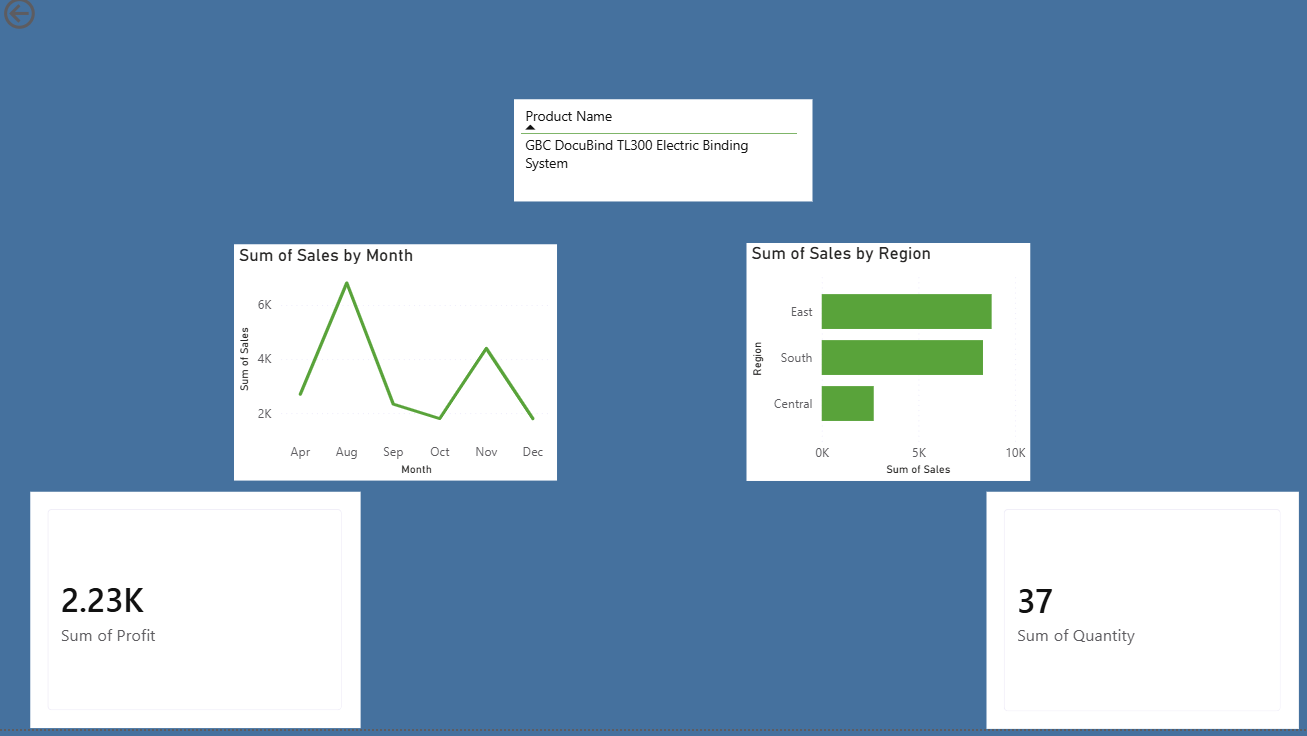

Layout of this report page (visuals, bound fields, positions):
{"tool":"powerbi","page":{"name":"Product","canvas":[1280,720],"ordinal":1},"visuals":[{"type":"actionButton","box":[0,0,100,40],"z":0},{"type":"tableEx","fields":{"Values":["Sales.Product Name"]},"box":[503.8,103.9,292.3,111.3],"z":1000},{"type":"lineChart","fields":{"Y":["Sum(Sales.Sales)"],"Category":["DateTable.Month"]},"box":[230.2,245.6,315.8,231.6],"z":2000},{"type":"cardVisual","fields":{"Data":["Sum(Sales.Profit)"]},"box":[30.9,488.4,322.8,231.6],"z":3000},{"type":"cardVisual","fields":{"Data":["Sum(Sales.Quantity)"]},"box":[966,487.9,305.7,232.3],"z":4000},{"type":"barChart","fields":{"Category":["Sales.Region"],"Y":["Sum(Sales.Sales)"]},"box":[731.2,244.2,277.9,233],"z":5000}]}

Visuals, with their boxes in screenshot pixels (x1, y1, x2, y2), scaled from the page's 1280x720 canvas onto the 1307x736 screenshot:
actionButton: l=0, t=0, r=102, b=41
tableEx - Sales.Product Name: l=514, t=106, r=813, b=220
lineChart - Sum(Sales.Sales) x DateTable.Month: l=235, t=251, r=558, b=488
cardVisual - Sum(Sales.Profit): l=32, t=499, r=361, b=735
cardVisual - Sum(Sales.Quantity): l=986, t=499, r=1299, b=735
barChart - Sales.Region x Sum(Sales.Sales): l=747, t=250, r=1030, b=488
